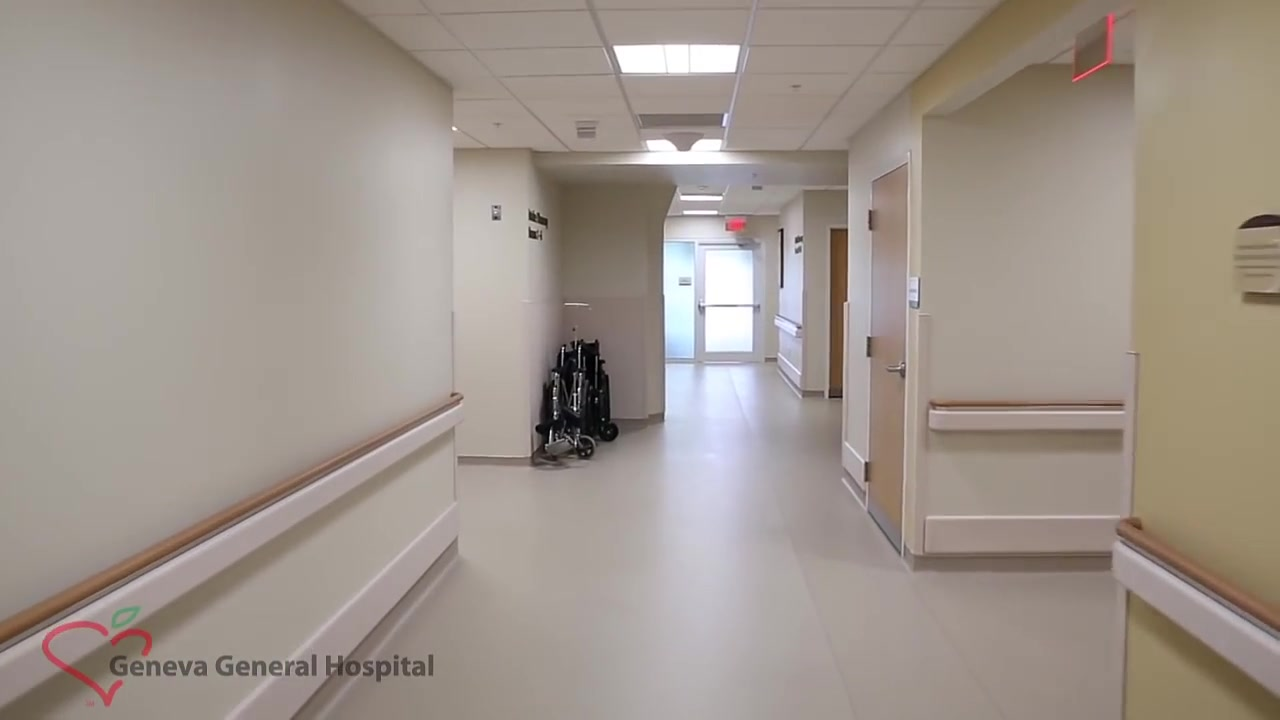TV: (1070, 14, 1117, 85)
door_handle: (884, 363, 903, 373)
hallway_assist_bar: (1, 391, 470, 705), (1114, 517, 1280, 704), (926, 396, 1127, 436), (773, 313, 801, 338)
push_latch: (699, 300, 760, 314)
wheel_chair: (539, 339, 620, 460)
